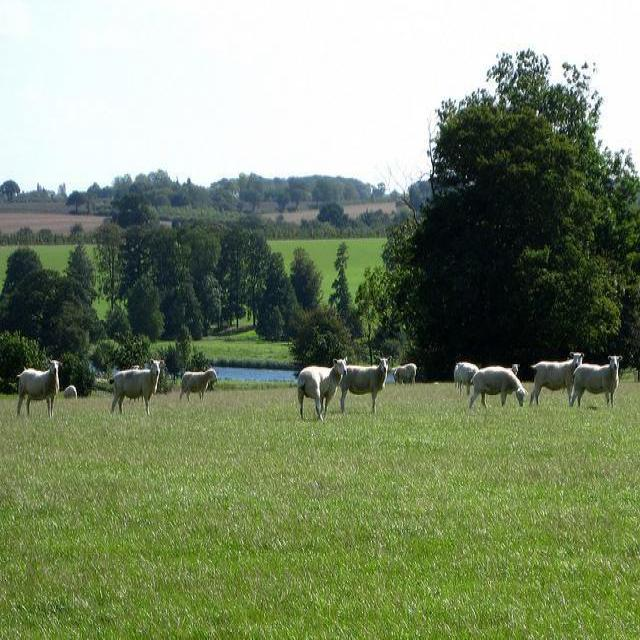Sheep: (296, 355, 347, 428), (338, 354, 395, 415), (528, 352, 586, 408), (110, 359, 165, 418), (17, 359, 65, 416), (572, 356, 622, 410)
